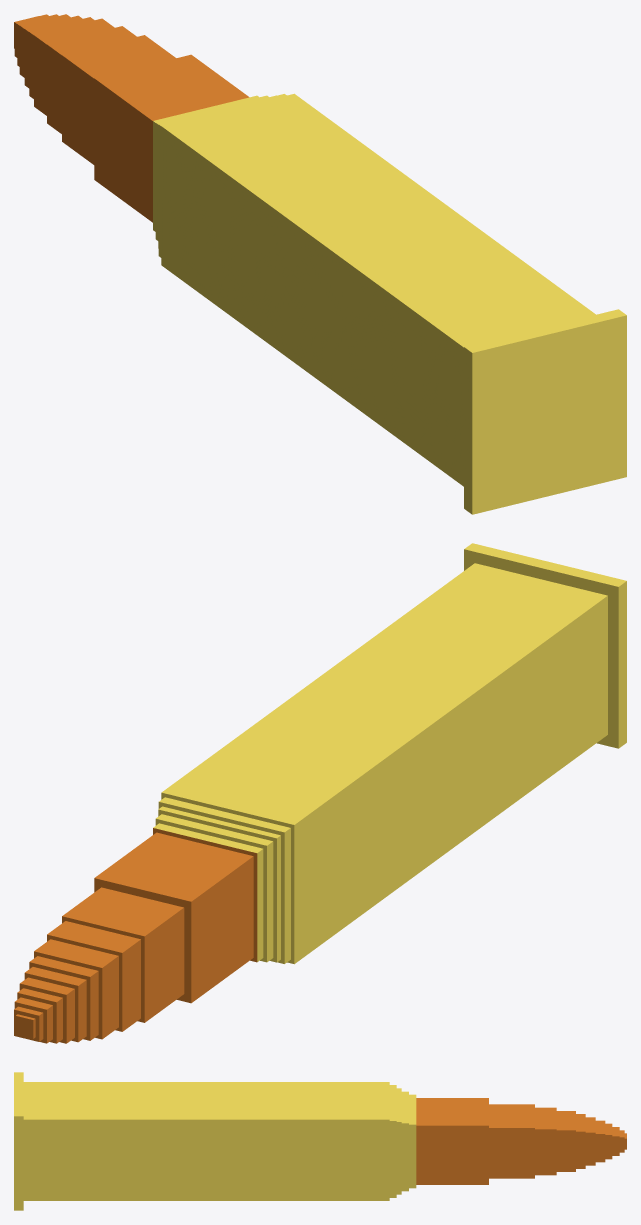
The model's file is MaXinGanBasicProyectile.fbx.
3 renders of one model, top to bottom at view 1: azimuth 30°, elevation 25°; view 2: azimuth 150°, elevation 25°; view 3: azimuth 270°, elevation 25°, orthographic. The views are drawn at different scales.
Visible parts, largest first — view 1: MaXinBasic; view 2: MaXinBasic; view 3: MaXinBasic.
Part boxes in pixels (x1,y1,x2,y2): MaXinBasic: (14, 14, 626, 514); MaXinBasic: (14, 543, 626, 1043); MaXinBasic: (14, 1072, 626, 1210).
Bounding box in the file's own units: 1.7 × 10.02 × 1.7.
